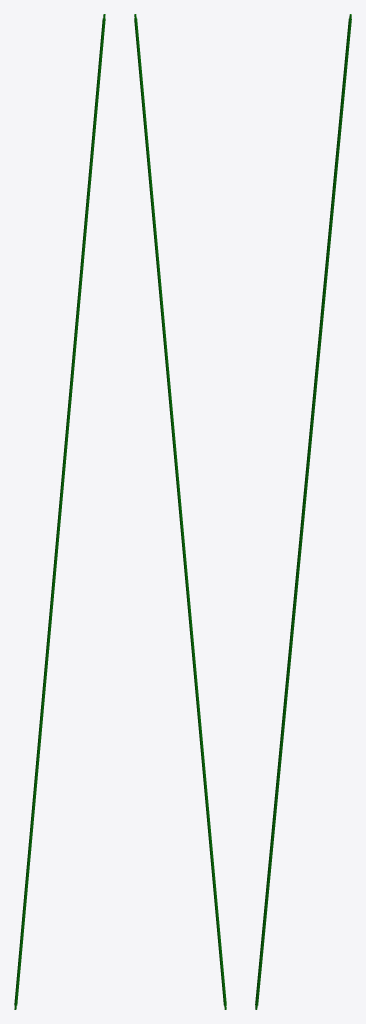
The model's file is Image-1710907555342-2281448051840_RISER-8.fbx.
3 renders of one model, left to right at view 1: azimuth 30°, elevation 25°; view 2: azimuth 150°, elevation 25°; view 3: azimuth 330°, elevation 25°, orthographic. The views are drawn at different scales.
Visible parts, largest first — view 1: CYLINDER 2 of EQUIPMENT /RISER-8; view 2: CYLINDER 2 of EQUIPMENT /RISER-8; view 3: CYLINDER 2 of EQUIPMENT /RISER-8.
Boxes of the visible parts, left/top/right/bottom form: CYLINDER 2 of EQUIPMENT /RISER-8: left=14, top=18, right=105, bottom=1005; CYLINDER 2 of EQUIPMENT /RISER-8: left=134, top=18, right=226, bottom=1005; CYLINDER 2 of EQUIPMENT /RISER-8: left=255, top=18, right=351, bottom=1005.
Bounding box in the file's own units: 11.31 × 0.4558 × 115.
